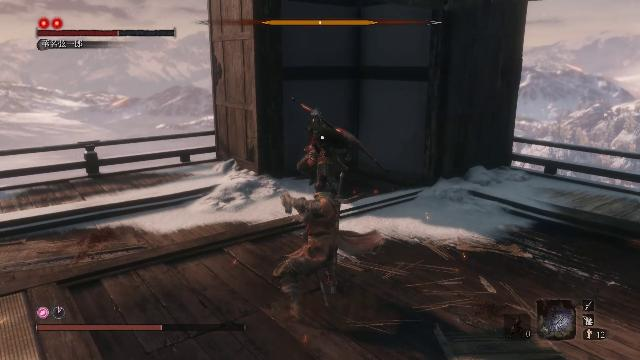sk: (264, 170, 350, 324)
